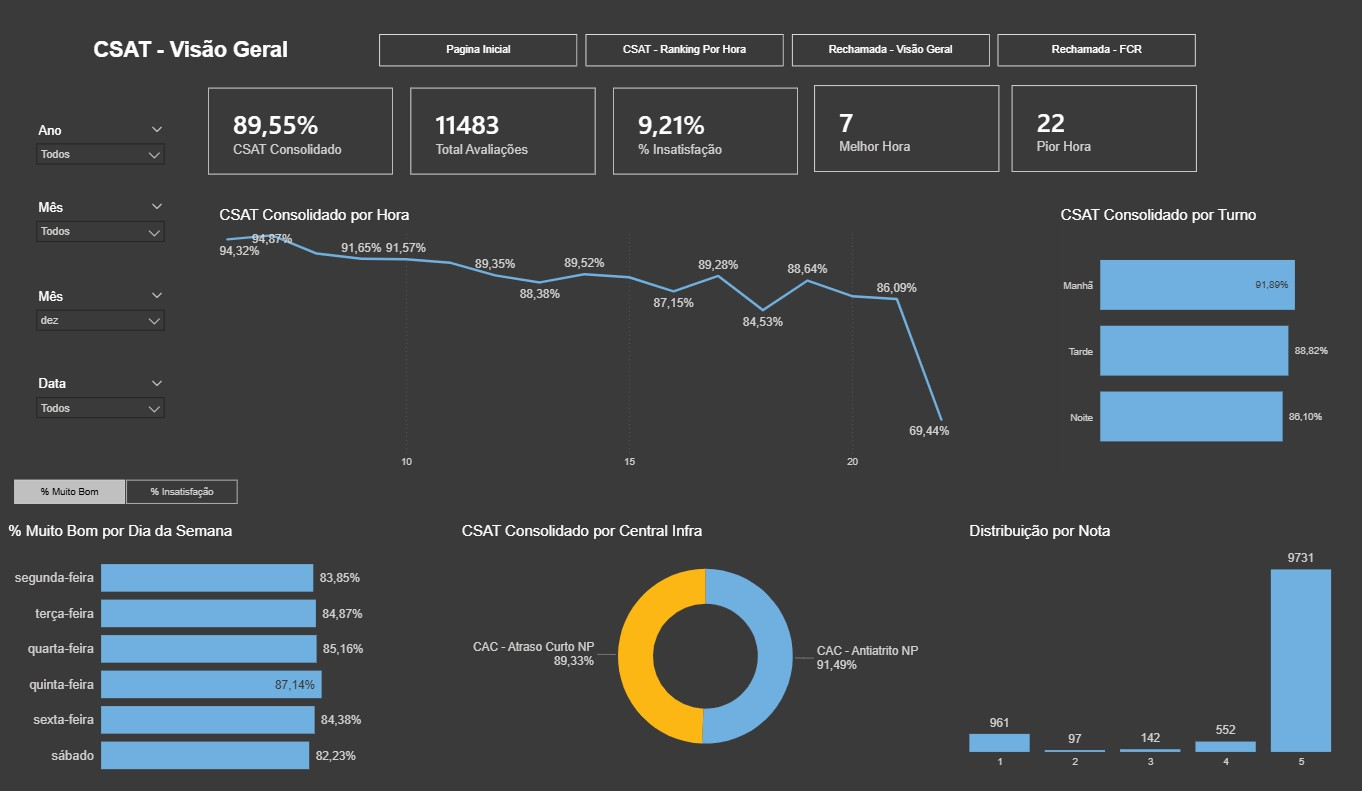

The page's visual inventory and layout, read from the dashboard file:
{"tool":"powerbi","page":{"name":"CSAT - Visão Geral","canvas":[1700,1000],"ordinal":1},"visuals":[{"type":"cardVisual","fields":{"Data":["Medidas (2).CSAT Consolidado"]},"box":[265.7,115.7,228.6,107.1],"z":0},{"type":"cardVisual","fields":{"Data":["Medidas (2).Total Avaliações"]},"box":[515.7,115.7,228.6,107.1],"z":1000},{"type":"cardVisual","fields":{"Data":["Medidas (2).% Insatisfação"]},"box":[767.1,115.7,228.6,107.1],"z":2000},{"type":"cardVisual","fields":{"Data":["Medidas (2).Melhor Hora"]},"box":[1015.7,112.9,228.6,107.1],"z":3000},{"type":"cardVisual","fields":{"Data":["Medidas (2).Pior Hora"]},"box":[1260,112.9,228.6,107.1],"z":4000},{"type":"lineChart","title":"CSAT Consolidado por Hora","fields":{"Category":["fcsat.Hora_Num"],"Y":["Medidas (2).CSAT Consolidado"]},"box":[275.2,262.4,913.1,331.7],"z":5000},{"type":"donutChart","fields":{"Category":["dcentral_infra.Central_Infra"],"Y":["Medidas (2).CSAT Consolidado"]},"box":[575.9,654.3,612.4,309.8],"z":6000},{"type":"clusteredColumnChart","title":"Distribuição por Nota","fields":{"Category":["fcsat.Nota"],"Y":["CountNonNull(fcsat.Nota)"]},"box":[1202.8,654.3,457.4,311.6],"z":7000},{"type":"slicer","fields":{"Values":["dCalendario.Ano"]},"box":[43.4,154,178.5,65.9],"z":8000},{"type":"slicer","fields":{"Values":["dCalendario.MesAbrev"]},"box":[43.4,250.5,178.5,65.9],"z":9000},{"type":"slicer","fields":{"Values":["dCalendario.MesAbrev"]},"box":[43.4,359.8,178.5,65.9],"z":10000},{"type":"slicer","fields":{"Values":["dCalendario.Data"]},"box":[43.4,467.9,178.5,65.9],"z":11000},{"type":"clusteredBarChart","fields":{"Y":["Calculos.% Muito Bom"],"Category":["dCalendario.DiaSemanaNome"]},"box":[14.3,654.3,452.9,328.6],"z":12000},{"type":"slicer","fields":{"Values":["Avaliações por dia da semana.Avaliações por dia da semana"]},"box":[0,594.1,326.2,43.7],"z":13000},{"type":"clusteredBarChart","fields":{"Category":["fcsat.Turno"],"Y":["Medidas (2).CSAT Consolidado"]},"box":[1315.8,262.4,344.4,331.7],"z":14000},{"type":"textbox","box":[22.9,50,442.9,54.3],"z":15000},{"type":"pageNavigator","box":[478.3,50,1010,40],"z":16000}]}

Visuals, with their boxes in screenshot pixels (x1, y1, x2, y2), scaled from the page's 1700x1000 canvas onto the 1362x791 screenshot:
cardVisual - Medidas (2).CSAT Consolidado: select_region(213, 92, 396, 176)
cardVisual - Medidas (2).Total Avaliações: select_region(413, 92, 596, 176)
cardVisual - Medidas (2).% Insatisfação: select_region(615, 92, 798, 176)
cardVisual - Medidas (2).Melhor Hora: select_region(814, 89, 997, 174)
cardVisual - Medidas (2).Pior Hora: select_region(1009, 89, 1193, 174)
"CSAT Consolidado por Hora" lineChart: select_region(220, 208, 952, 470)
donutChart - dcentral_infra.Central_Infra x Medidas (2).CSAT Consolidado: select_region(461, 518, 952, 763)
"Distribuição por Nota" clusteredColumnChart: select_region(964, 518, 1330, 764)
slicer - dCalendario.Ano: select_region(35, 122, 178, 174)
slicer - dCalendario.MesAbrev: select_region(35, 198, 178, 250)
slicer - dCalendario.MesAbrev: select_region(35, 285, 178, 337)
slicer - dCalendario.Data: select_region(35, 370, 178, 422)
clusteredBarChart - Calculos.% Muito Bom x dCalendario.DiaSemanaNome: select_region(11, 518, 374, 777)
slicer - Avaliações por dia da semana.Avaliações por dia da semana: select_region(0, 470, 261, 504)
clusteredBarChart - fcsat.Turno x Medidas (2).CSAT Consolidado: select_region(1054, 208, 1330, 470)
textbox: select_region(18, 40, 373, 83)
pageNavigator: select_region(383, 40, 1192, 71)
